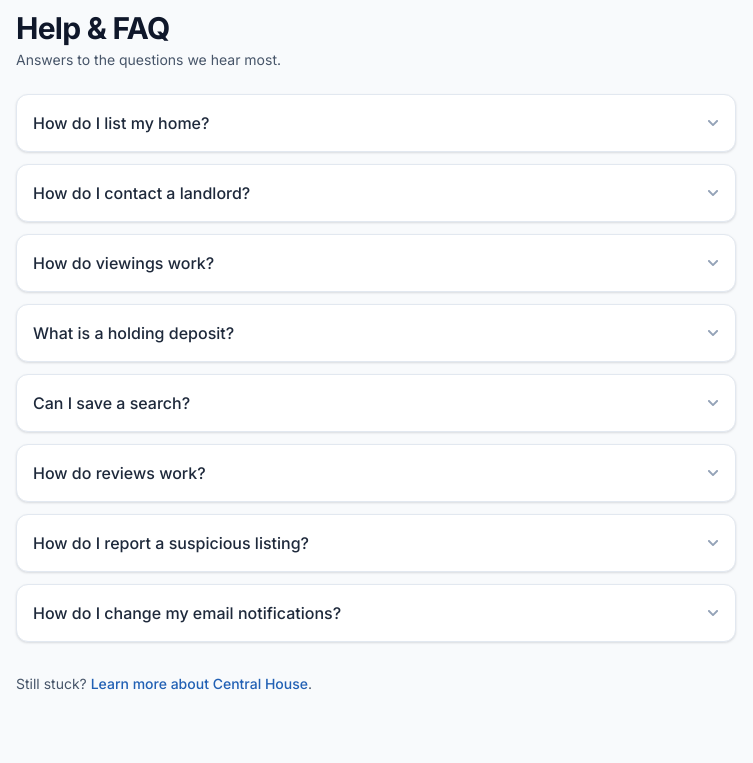
it: Help page › opens an answer when a question is clicked
Click the button "How do viewings work?" at (124, 263), box [17,235,735,291]
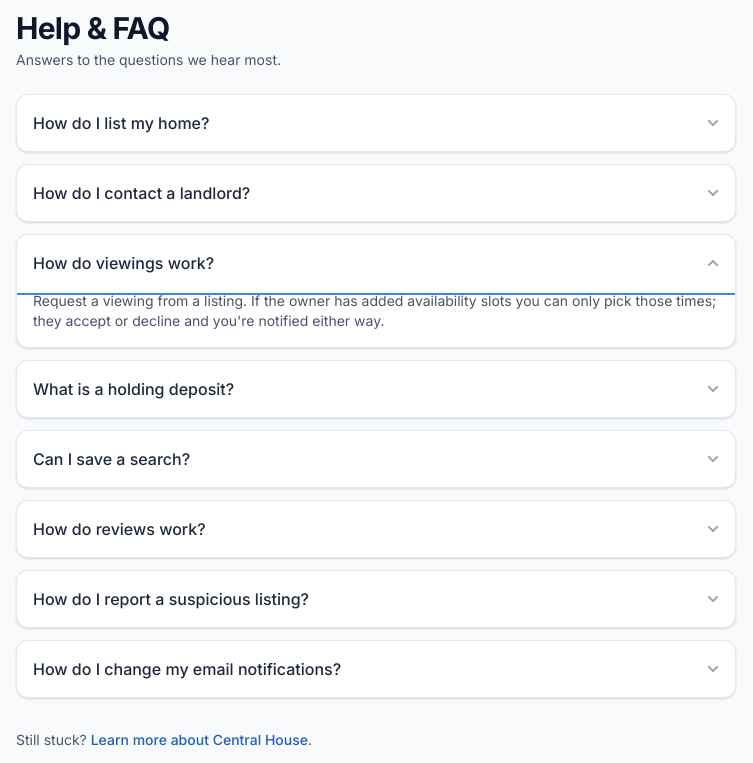
Result: the button "How do viewings work?" is expanded at [17,235,735,291]
Result: the text "accept or decline" is shown at [33,292,716,329]
